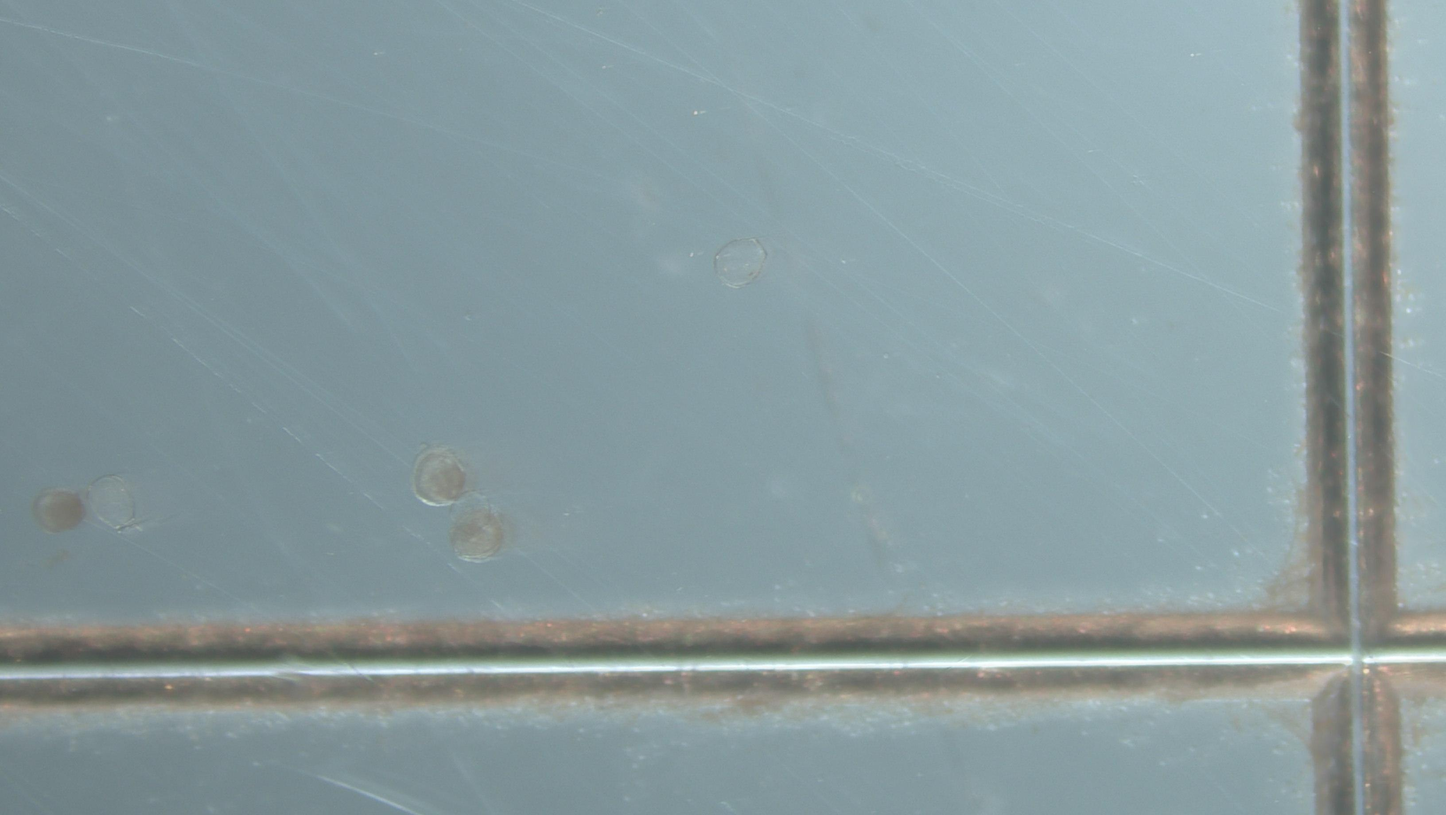dead: (87, 476, 140, 532), (714, 238, 768, 289)
live: (449, 495, 508, 563), (414, 446, 467, 506), (32, 489, 85, 534)
